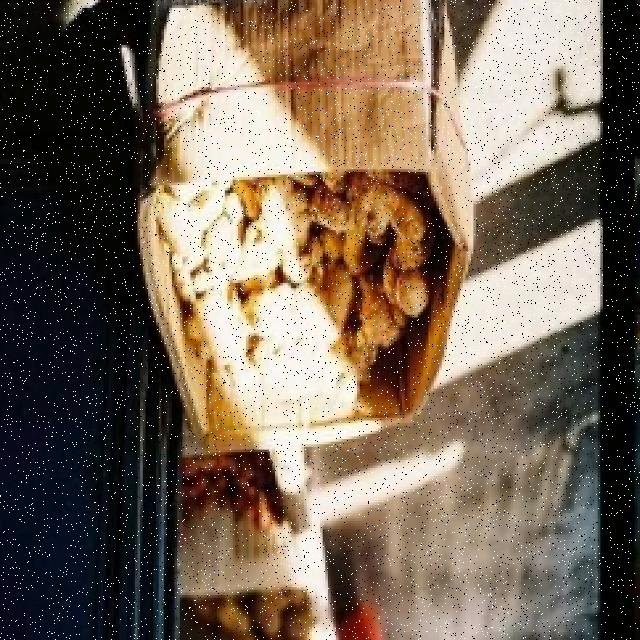box: (145, 7, 479, 434)
